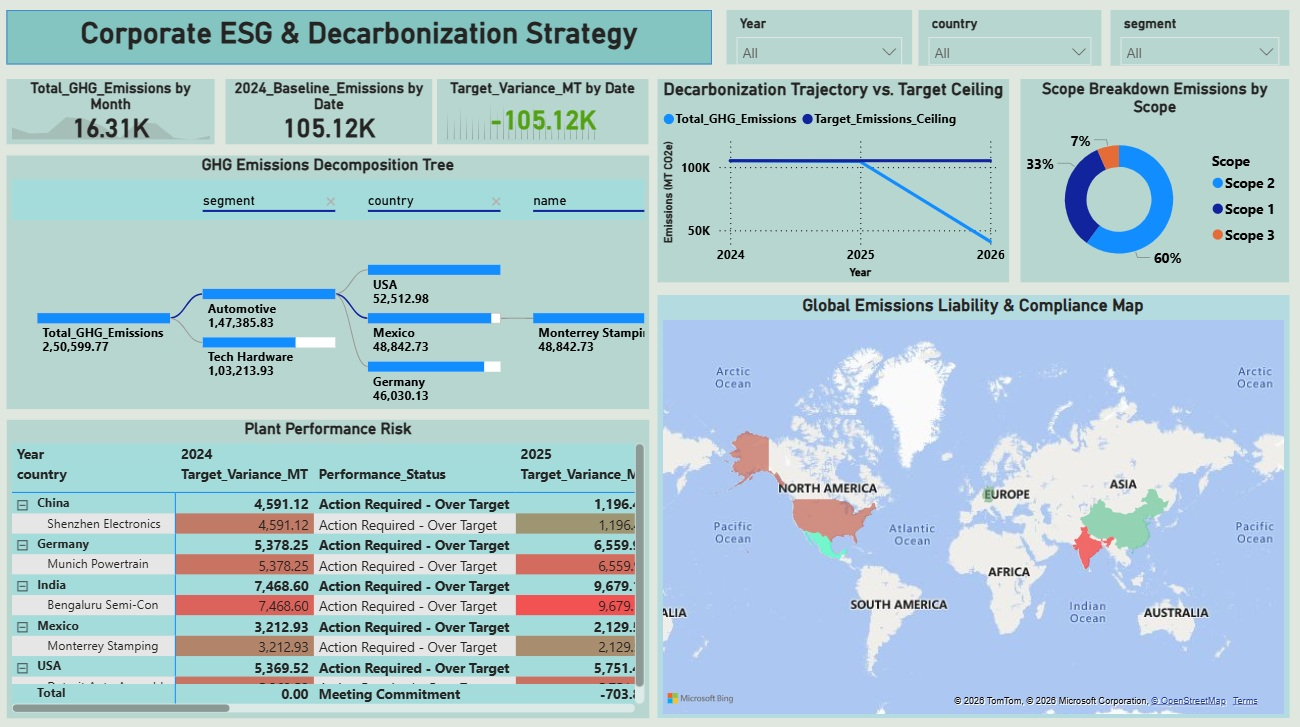

Layout of this report page (visuals, bound fields, positions):
{"tool":"powerbi","page":{"name":"Page 1","canvas":[1280,720],"ordinal":0},"visuals":[{"type":"kpi","fields":{"Indicator":["All Measures.Total_GHG_Emissions"],"TrendLine":["Dim_Date.Month"]},"box":[10,82.9,204.3,64.3],"z":0},{"type":"shape","title":"Corporate ESG & Decarbonization Strategy","box":[10,15,691.7,53.3],"z":1000},{"type":"textbox","box":[10,15,691.7,53.3],"z":2000},{"type":"kpi","fields":{"Indicator":["All Measures.2024_Baseline_Emissions"],"TrendLine":["Dim_Date.Date"]},"box":[224.3,82.9,202.9,64.3],"z":3000},{"type":"kpi","fields":{"Indicator":["All Measures.Target_Variance_MT"],"TrendLine":["Dim_Date.Date"]},"box":[432.9,82.9,207.1,64.3],"z":4000},{"type":"slicer","fields":{"Values":["Dim_Date.Year"]},"box":[716.7,15,181.7,53.3],"z":5000},{"type":"slicer","fields":{"Values":["esg_facilities_dim.country"]},"box":[904.4,14.7,179.4,54.4],"z":6000},{"type":"donutChart","title":"Scope Breakdown Emissions by Scope","fields":{"Category":["Dim_Scope.Scope"],"Y":["All Measures.Scope_Breakdown_Emissions"]},"box":[1004.3,83,263.5,199.4],"z":7000},{"type":"lineChart","title":"Decarbonization Trajectory vs. Target Ceiling","fields":{"Category":["Dim_Date.Year"],"Y":["All Measures.Total_GHG_Emissions","All Measures.Target_Emissions_Ceiling"]},"box":[649.2,83,345,199.4],"z":8000},{"type":"decompositionTreeVisual","title":"GHG Emissions Decomposition Tree","fields":{"Analyze":["All Measures.Total_GHG_Emissions"],"ExplainBy":["esg_facilities_dim.segment","esg_facilities_dim.country","esg_facilities_dim.name","vw_clean_energy_emissions.energy_source","vw_clean_logistics_emissions.mode_of_transport"]},"box":[10.2,157.2,630.3,248.9],"z":9000},{"type":"pivotTable","title":"Plant Performance Risk","fields":{"Rows":["esg_facilities_dim.country","esg_facilities_dim.name"],"Columns":["Dim_Date.Year"],"Values":["All Measures.Target_Variance_MT","All Measures.Performance_Status"]},"box":[10.2,416.3,630.3,292.6],"z":10000},{"type":"slicer","fields":{"Values":["esg_facilities_dim.segment"]},"box":[1092.6,14.7,175,54.4],"z":11000},{"type":"filledMap","title":"Global Emissions Liability & Compliance Map","fields":{"Category":["esg_facilities_dim.country"]},"box":[649.2,294,618.6,414.8],"z":12000}]}

Visuals, with their boxes in screenshot pixels (x1, y1, x2, y2), scaled from the page's 1280x720 canvas onto the 1300x727 screenshot:
kpi - All Measures.Total_GHG_Emissions x Dim_Date.Month: region(10, 84, 218, 149)
"Corporate ESG & Decarbonization Strategy" shape: region(10, 15, 713, 69)
textbox: region(10, 15, 713, 69)
kpi - All Measures.2024_Baseline_Emissions x Dim_Date.Date: region(228, 84, 434, 149)
kpi - All Measures.Target_Variance_MT x Dim_Date.Date: region(440, 84, 650, 149)
slicer - Dim_Date.Year: region(728, 15, 912, 69)
slicer - esg_facilities_dim.country: region(919, 15, 1101, 70)
"Scope Breakdown Emissions by Scope" donutChart: region(1020, 84, 1288, 285)
"Decarbonization Trajectory vs. Target Ceiling" lineChart: region(659, 84, 1010, 285)
"GHG Emissions Decomposition Tree" decompositionTreeVisual: region(10, 159, 651, 410)
"Plant Performance Risk" pivotTable: region(10, 420, 651, 716)
slicer - esg_facilities_dim.segment: region(1110, 15, 1287, 70)
"Global Emissions Liability & Compliance Map" filledMap: region(659, 297, 1288, 716)
